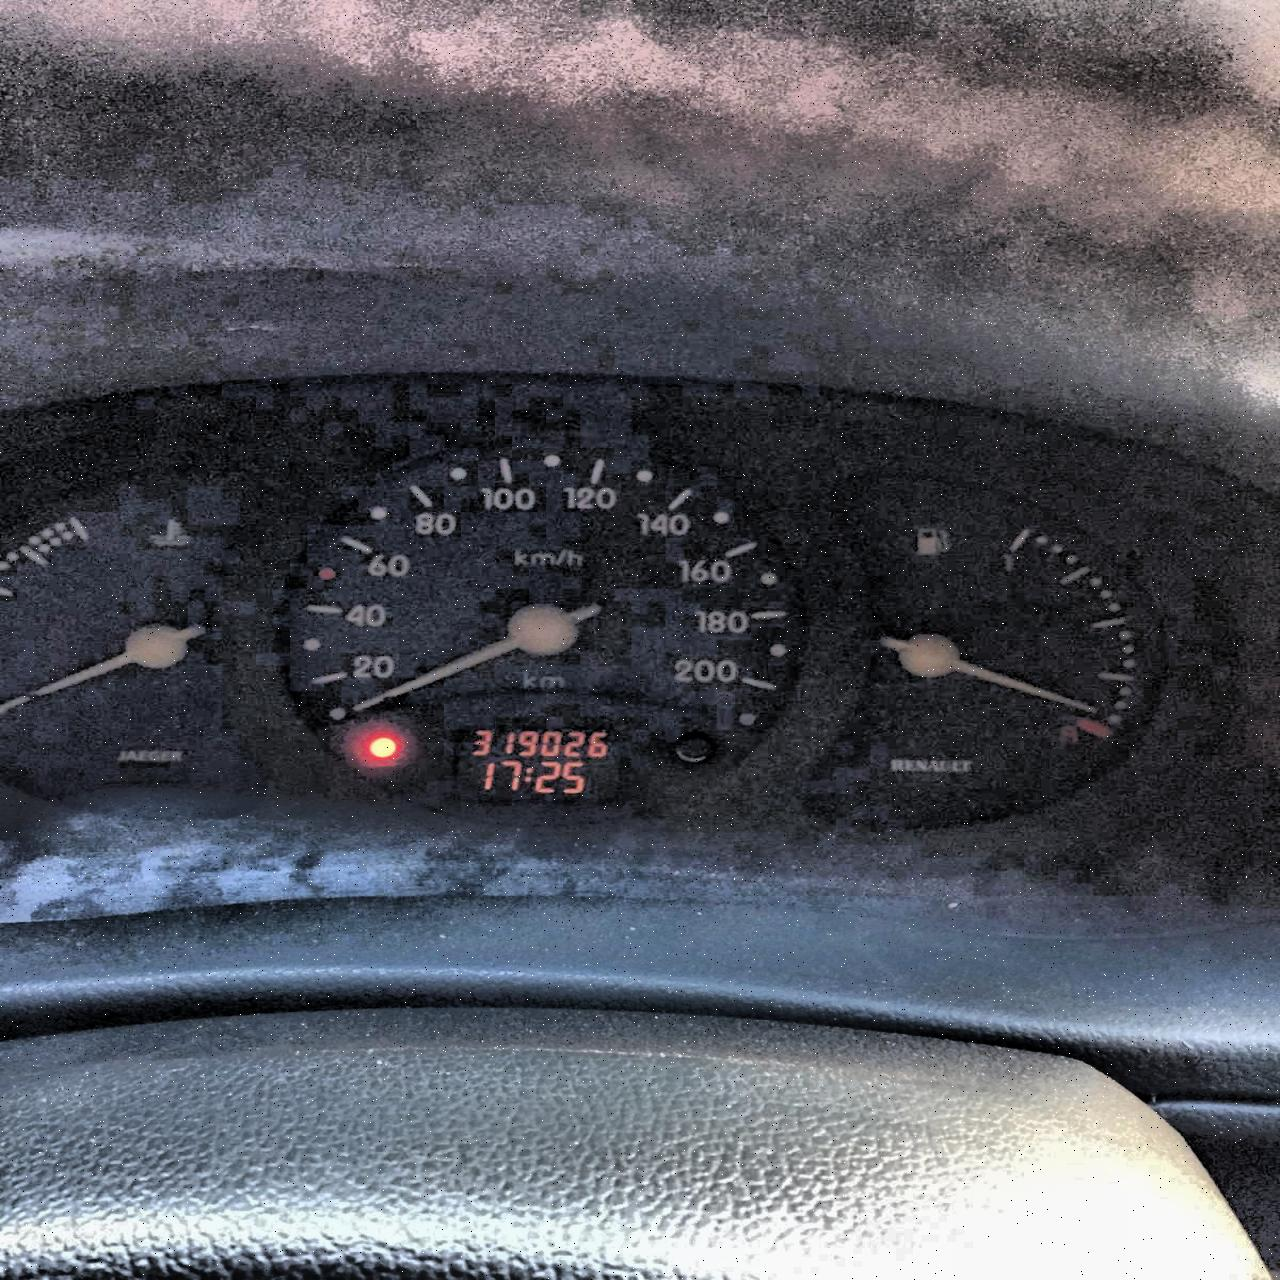0: (539, 731, 560, 756)
1: (482, 762, 493, 790), (504, 733, 515, 754)
2: (535, 761, 560, 792), (563, 731, 584, 756)
3: (471, 730, 490, 755)
5: (560, 761, 584, 794)
6: (587, 731, 607, 756)
7: (501, 761, 520, 790)
9: (517, 731, 538, 755)
X: (524, 767, 532, 782)
odometer: (448, 721, 626, 806)
